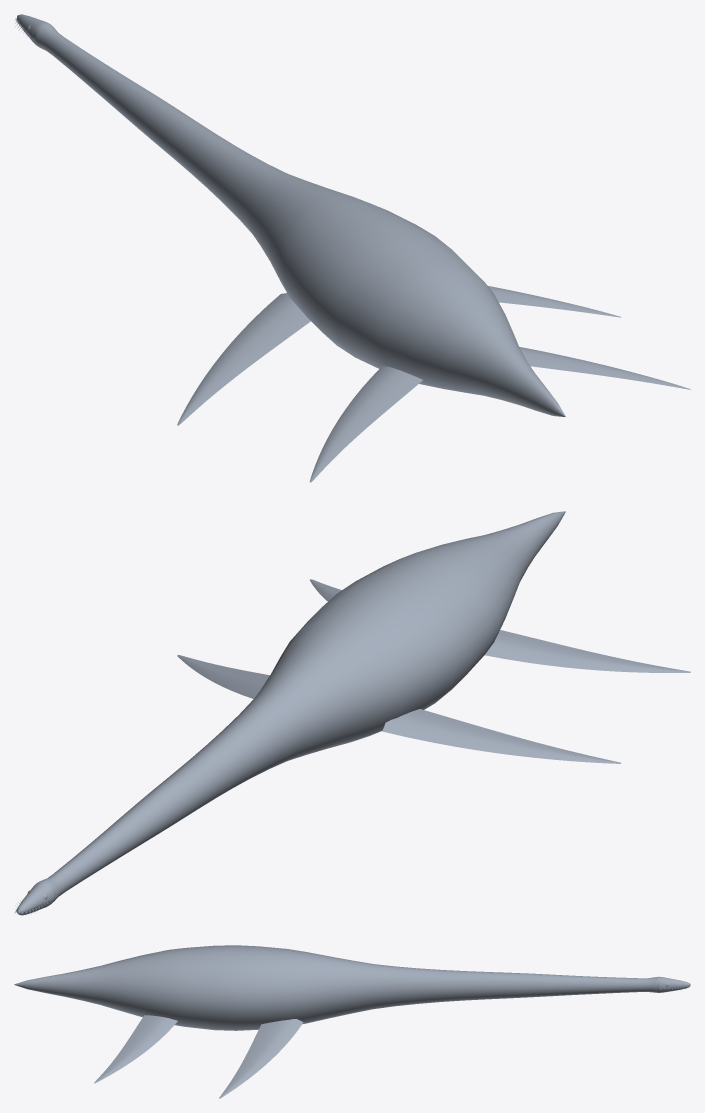
File: plesiosaur_game.glb
The picture shows the model from 3 angles, top to bottom: view 1: azimuth 30°, elevation 25°; view 2: azimuth 150°, elevation 25°; view 3: azimuth 270°, elevation 25°; orthographic projection. The views are drawn at different scales.
Parts seen in each view (by area): view 1: plesiosaur_game; view 2: plesiosaur_game; view 3: plesiosaur_game.
Boxes of the visible parts, x1=… form: plesiosaur_game: x1=15, y1=14, x2=690, y2=482; plesiosaur_game: x1=15, y1=511, x2=690, y2=915; plesiosaur_game: x1=14, y1=945, x2=690, y2=1098.
Size of the model in its own units: 4.22 by 1.19 by 9.01.
